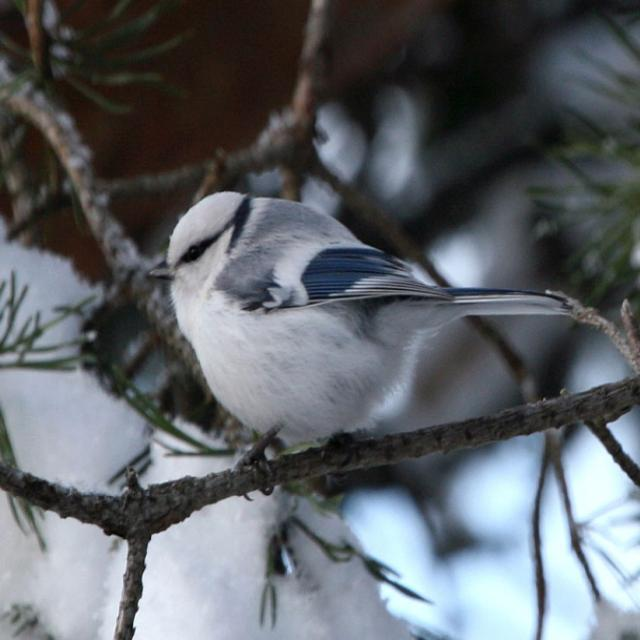bird: (147, 192, 597, 447)
